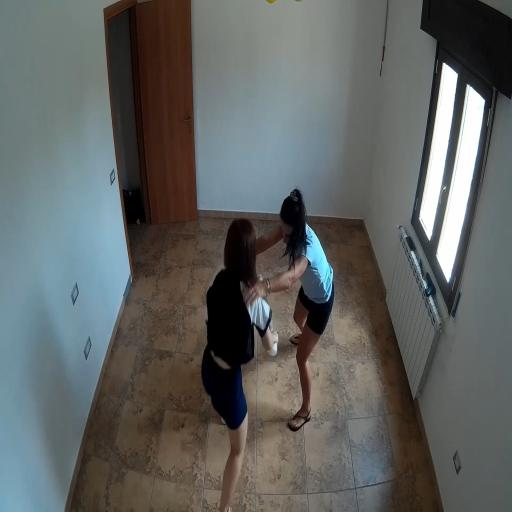violencia: (170, 180, 341, 512)
